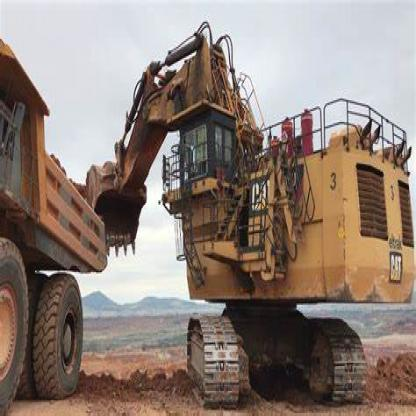dump_truck: (0, 28, 119, 412)
excavator: (74, 22, 415, 414)
